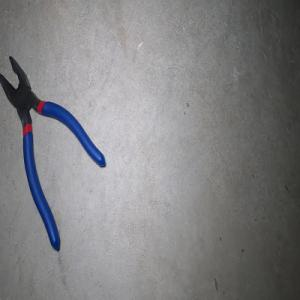Pliers: (0, 55, 105, 251)
